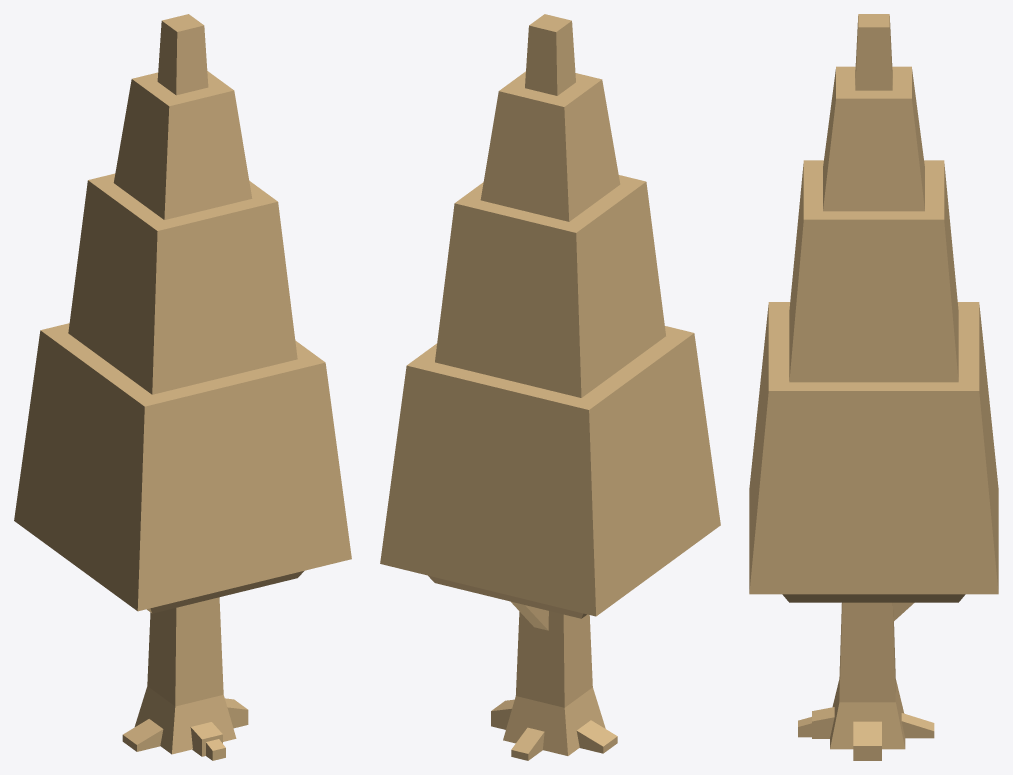
File: Mega_Asset_s_Pack_Cube_039.FBX
The picture shows the model from 3 angles, left to right: view 1: azimuth 30°, elevation 25°; view 2: azimuth 150°, elevation 25°; view 3: azimuth 270°, elevation 25°; orthographic projection.
Parts seen in each view (by area): view 1: Mega_Asset_s_Pack_Cube_039; view 2: Mega_Asset_s_Pack_Cube_039; view 3: Mega_Asset_s_Pack_Cube_039.
Part boxes in pixels (x1=…): Mega_Asset_s_Pack_Cube_039: x1=14, y1=14, x2=351, y2=760; Mega_Asset_s_Pack_Cube_039: x1=380, y1=14, x2=720, y2=760; Mega_Asset_s_Pack_Cube_039: x1=749, y1=14, x2=998, y2=760.
Size of what is drawn, in the model's own units: 336 by 336 by 1062.
